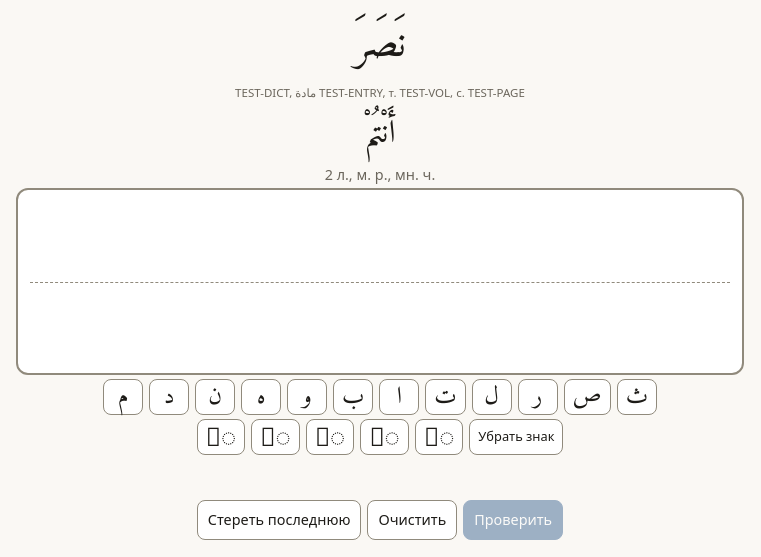
Test: TrainerScreen: конструктор › повторное нажатие той же огласовки снимает её
Step 1. Click the button with test id "letter-ن" → click(215, 397), box top-left (195, 379), bottom-right (235, 415)
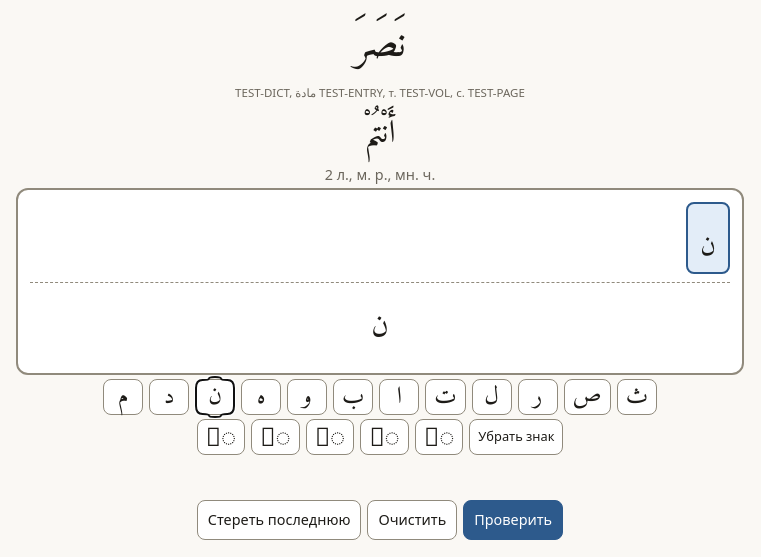
Step 2. Click the button with test id "mark-fatha" → click(221, 437), box top-left (196, 419), bottom-right (245, 455)
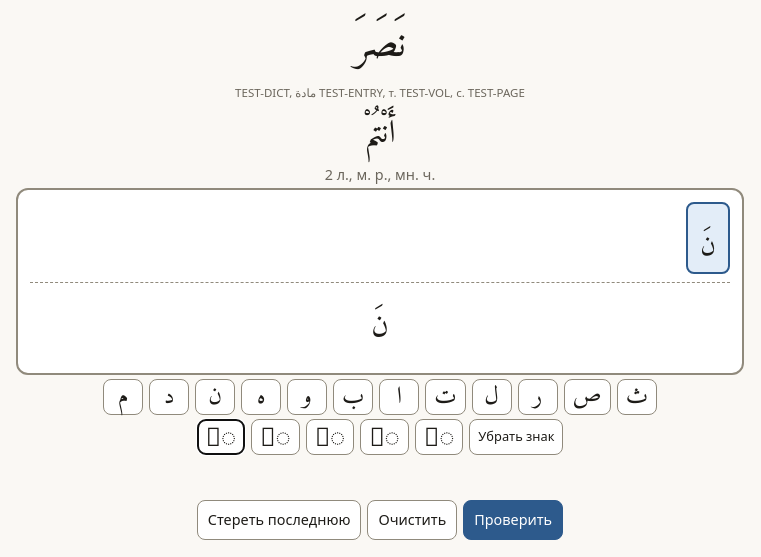
Expected: the button with test id "tile" reads "نَ", top-left (686, 202), bottom-right (730, 274)
Step 3. Click the button with test id "mark-fatha" → click(221, 437), box top-left (196, 419), bottom-right (245, 455)
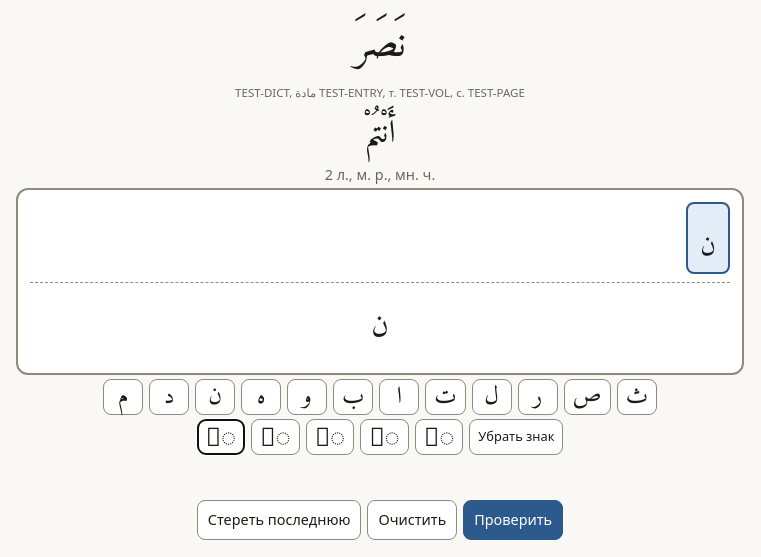
Expected: the button with test id "tile" reads "ن", top-left (686, 202), bottom-right (730, 274)
